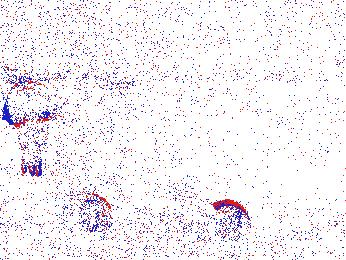flame jellyfish: (5, 80, 56, 177), (62, 191, 111, 242), (208, 202, 252, 248)
